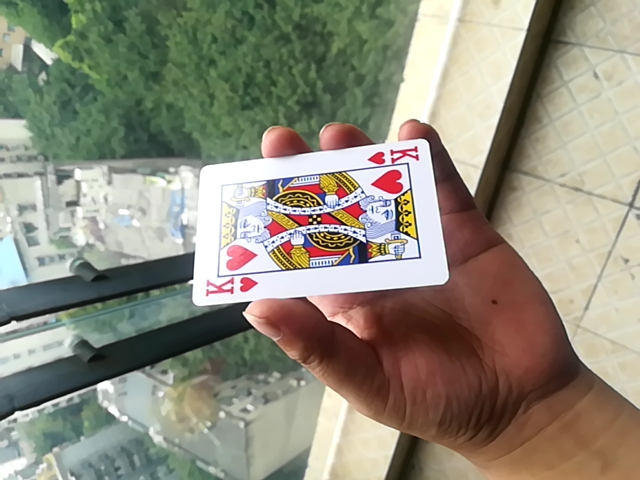hx k: (191, 131, 443, 309)
